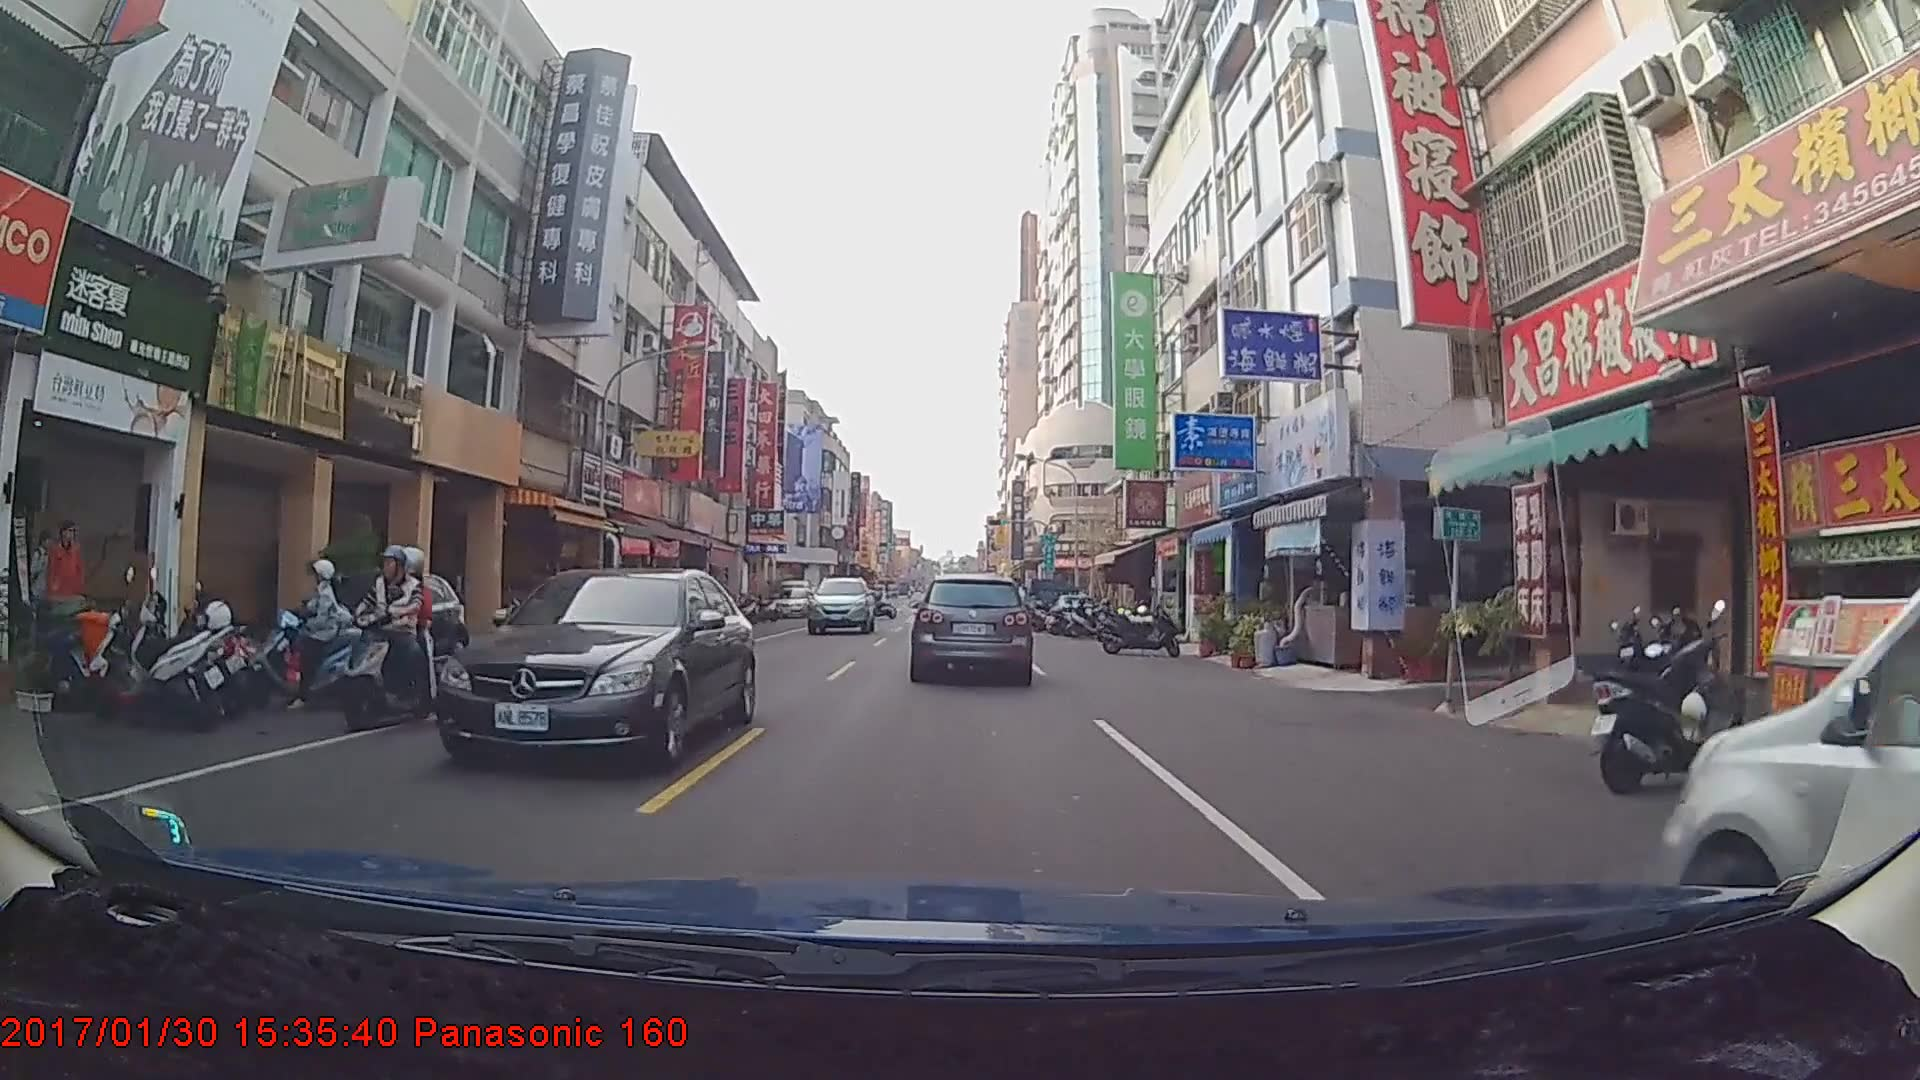pedestrian: (45, 511, 93, 647), (21, 520, 59, 637)
rider: (323, 542, 450, 735)
vehicle: (1654, 480, 1916, 1022), (434, 565, 756, 775), (910, 574, 1030, 683), (808, 575, 875, 635), (1024, 574, 1075, 621)
